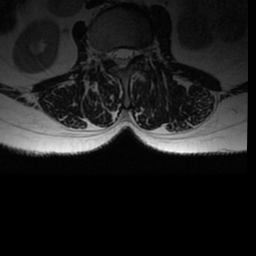CCS_normal: (118, 43, 125, 71)
LFS_stenosis: (133, 44, 141, 62)
LLS_normal: (126, 43, 134, 65)
RFS_normal: (103, 46, 110, 66)
RLS_normal: (110, 44, 118, 65)
